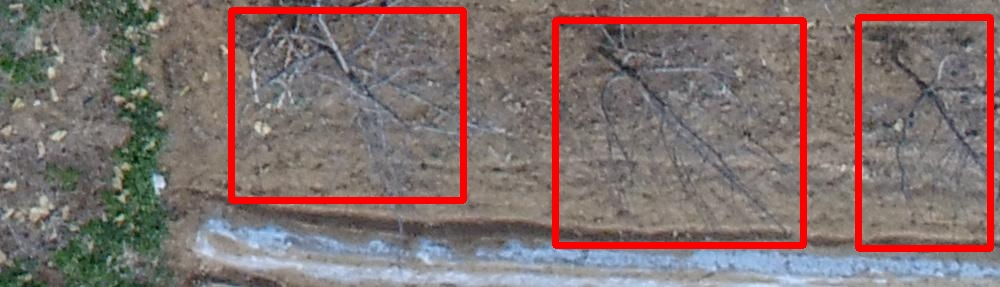apple: (555, 20, 803, 245), (231, 10, 463, 200), (858, 17, 990, 248)
